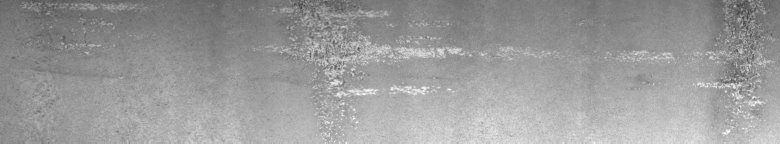hc: (628, 4, 773, 134)
